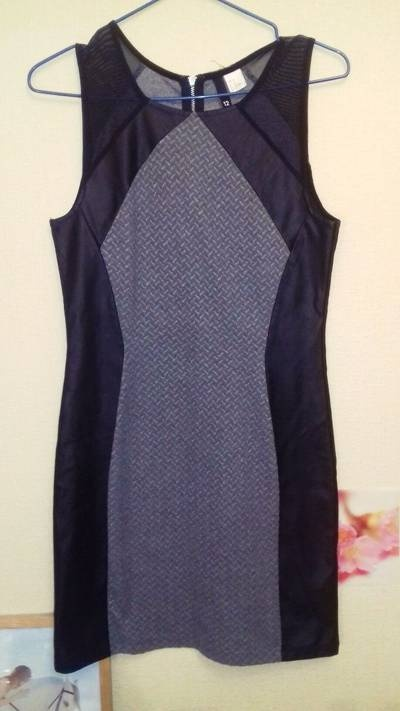Dress: (15, 6, 367, 679)
